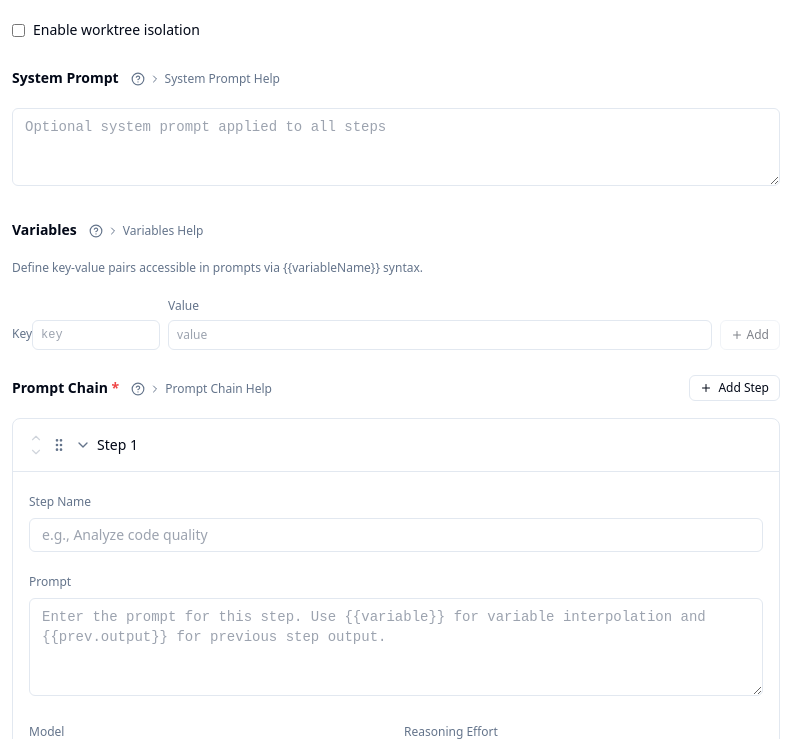
Test: AutomationEditorPage › reorders steps when move up/down buttons are clicked
The image size is (797, 739).
(page scrolled)
# Add a second step
Click the button "Add Step" at (735, 388), box [689, 375, 780, 401]
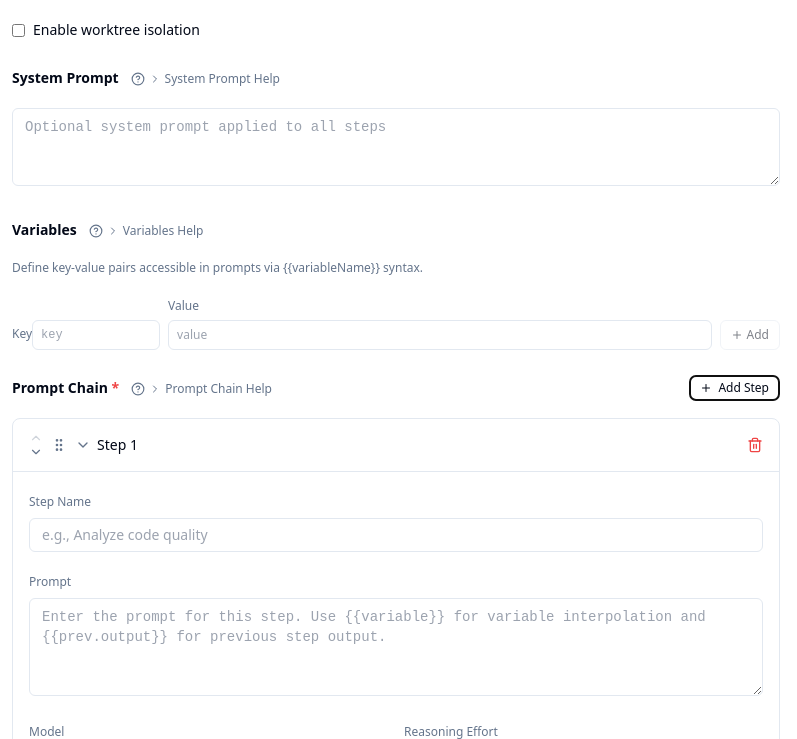
# Give names to the steps to distinguish them
Type "First" into the field with placeholder "e.g., Analyze code quality" at (396, 535), box [29, 518, 763, 552]
(page scrolled)
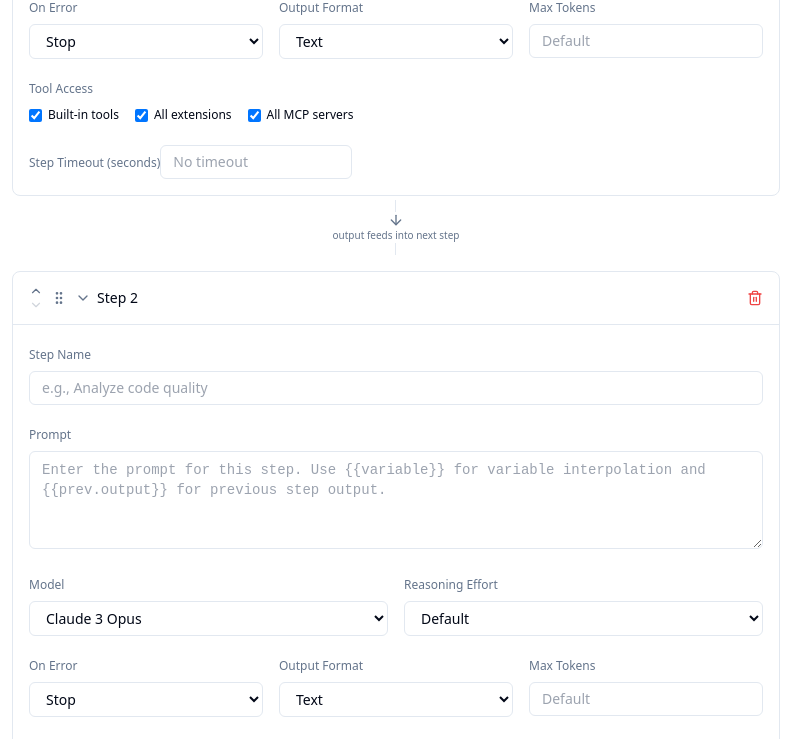
Type "Second" into the field with placeholder "e.g., Analyze code quality" at (396, 388), box [29, 371, 763, 405]
(page scrolled)
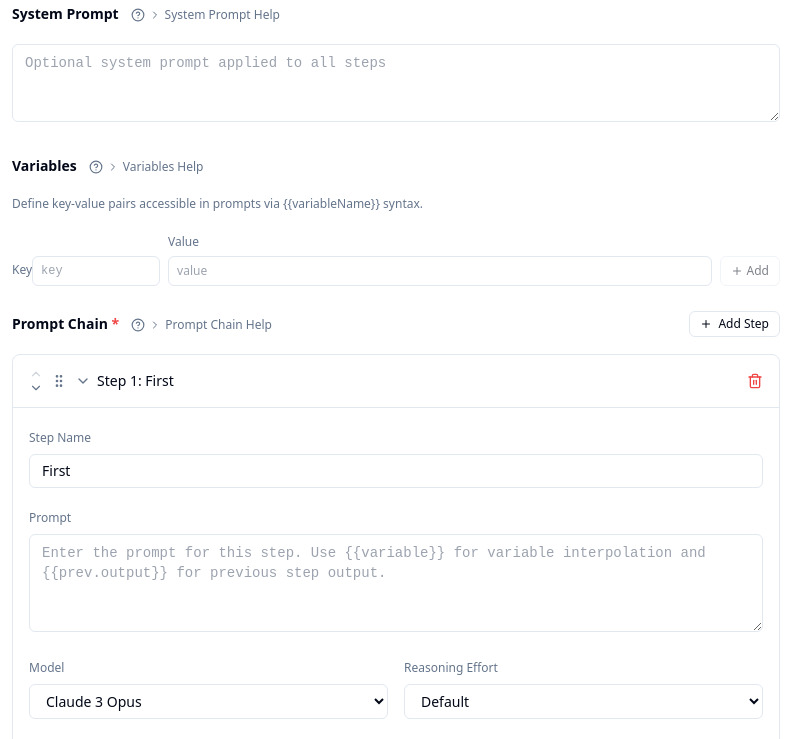
Expected: the text "Step 1: First" is shown, [97, 371, 174, 391]
# Click "Move down" on step 1 (the first step's move-down button)
Click the button titled "Move down" at (36, 388), box [29, 381, 43, 395]
(page scrolled)
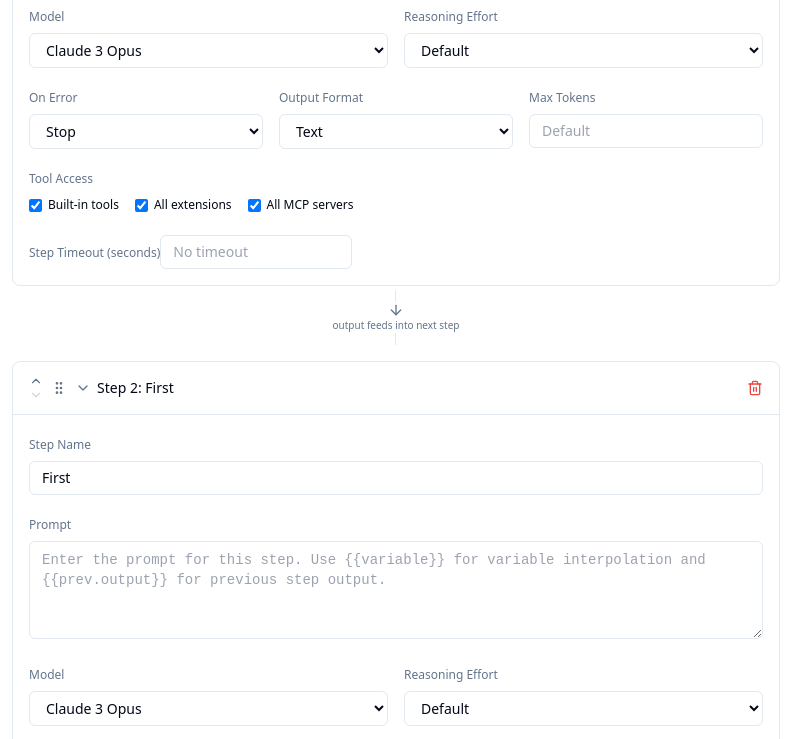
Expected: the text "Step 2: First" is shown, [97, 378, 174, 398]
